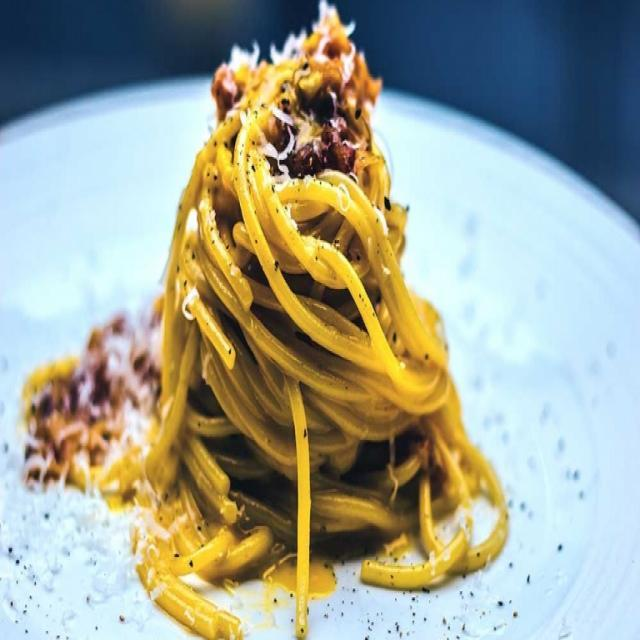Pasta with carbonara sauce: (117, 14, 531, 608)
